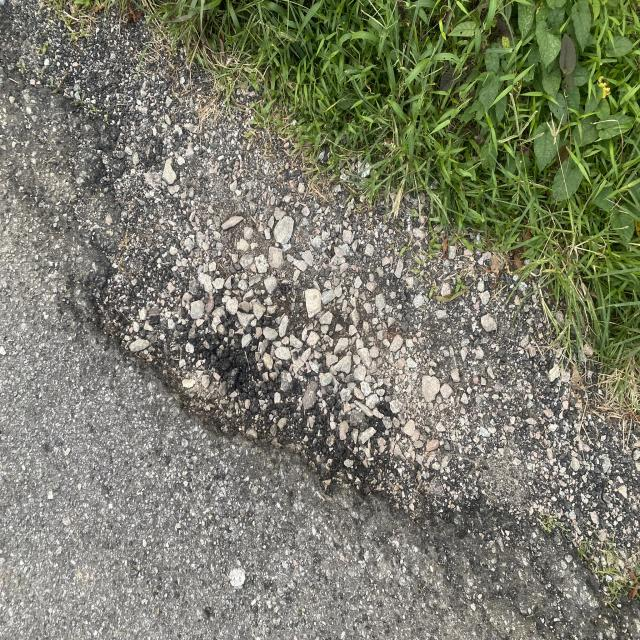Pothole: (46, 170, 470, 575)
